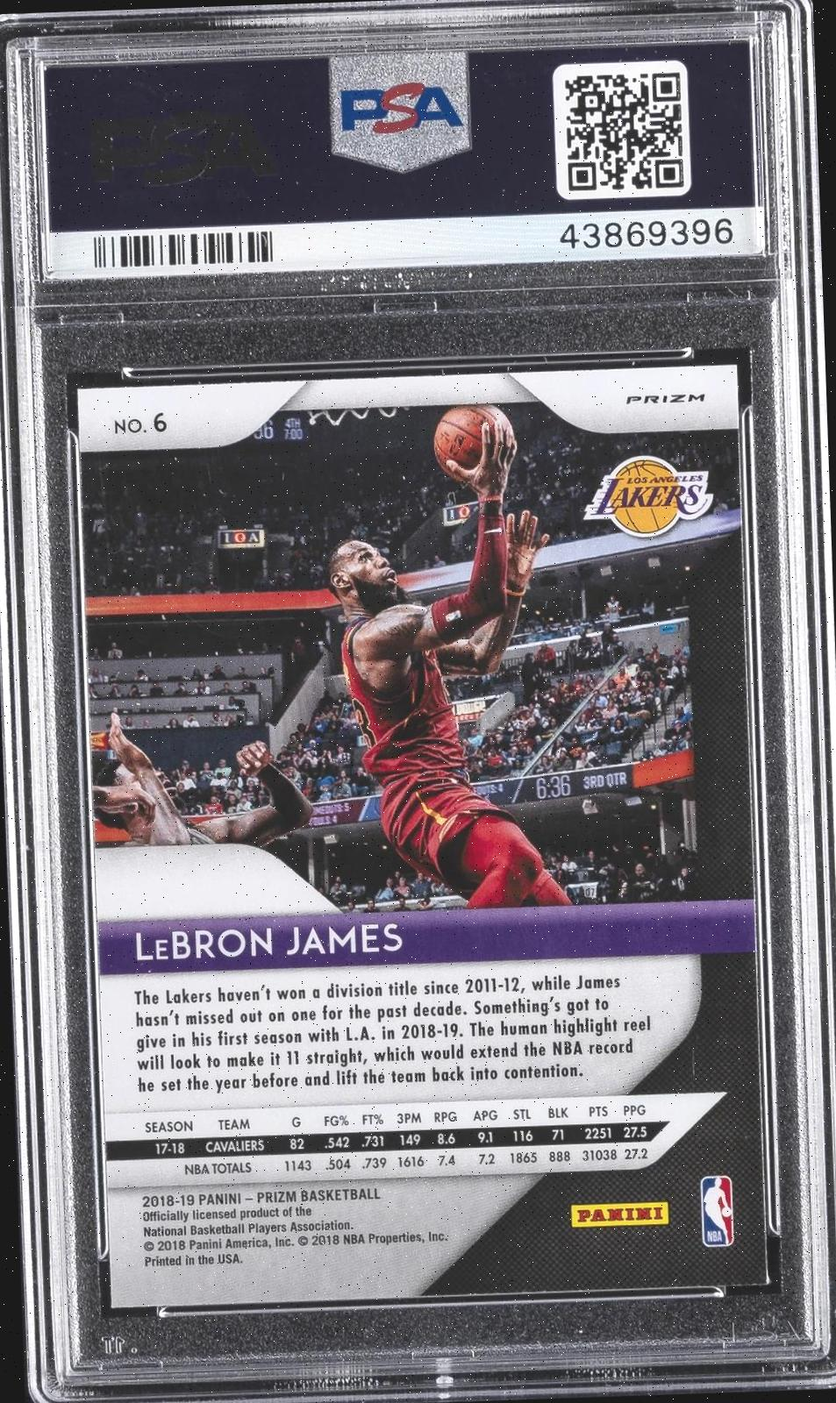card-2UtV: (75, 362, 769, 1310)
